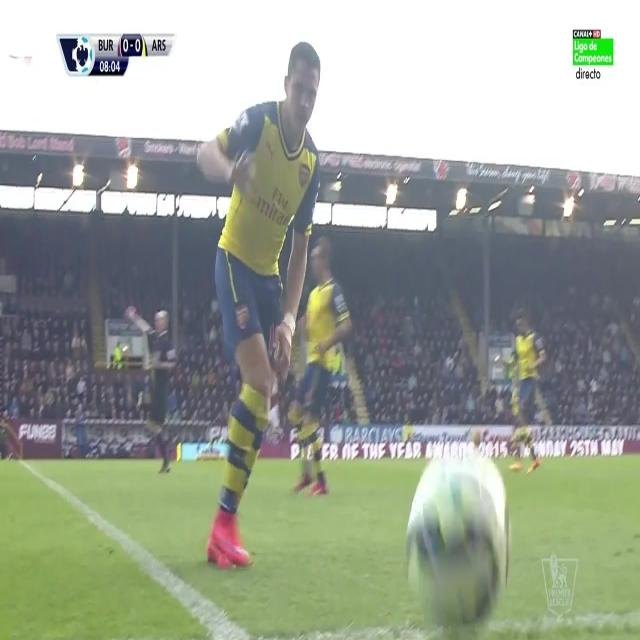Ball: (404, 440, 514, 630)
Player: (196, 39, 324, 570), (291, 231, 353, 500), (509, 307, 549, 478)
Referee: (125, 300, 179, 478)
